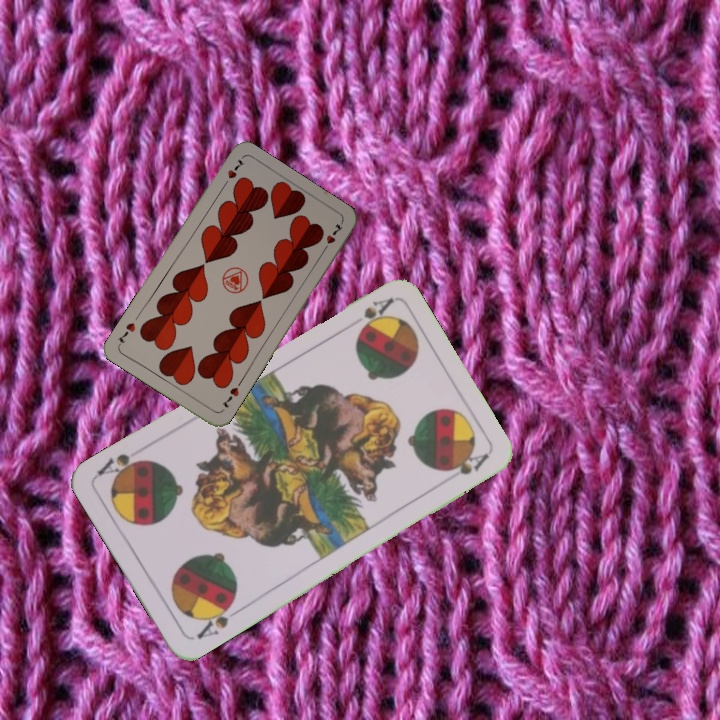H7: (218, 155, 247, 190), (218, 383, 241, 410)
SA: (192, 596, 238, 642), (354, 293, 396, 334)
